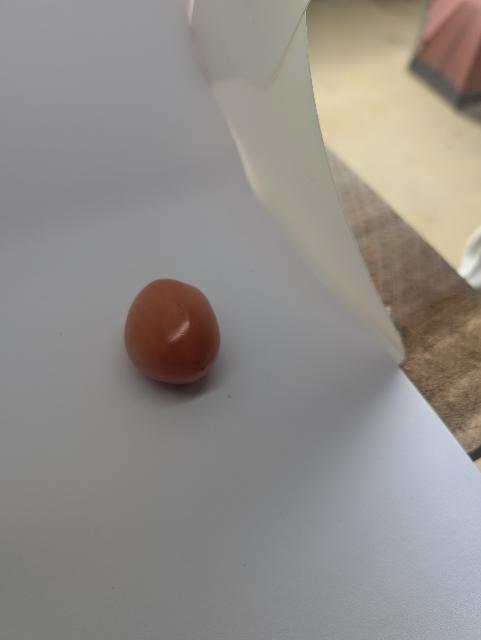red: (108, 271, 234, 405)
